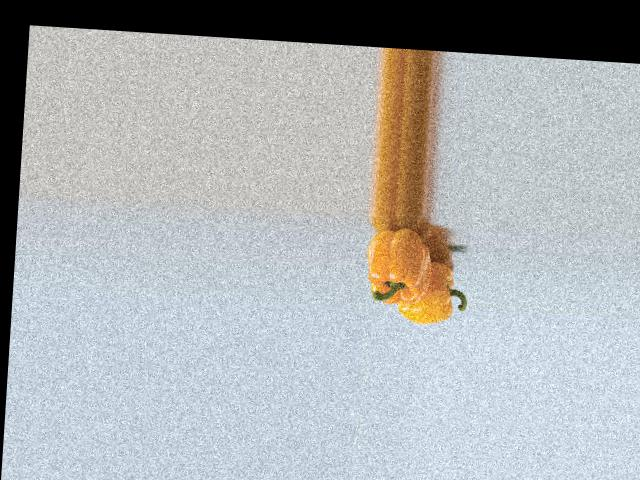bell_pepper: (394, 248, 469, 326)
